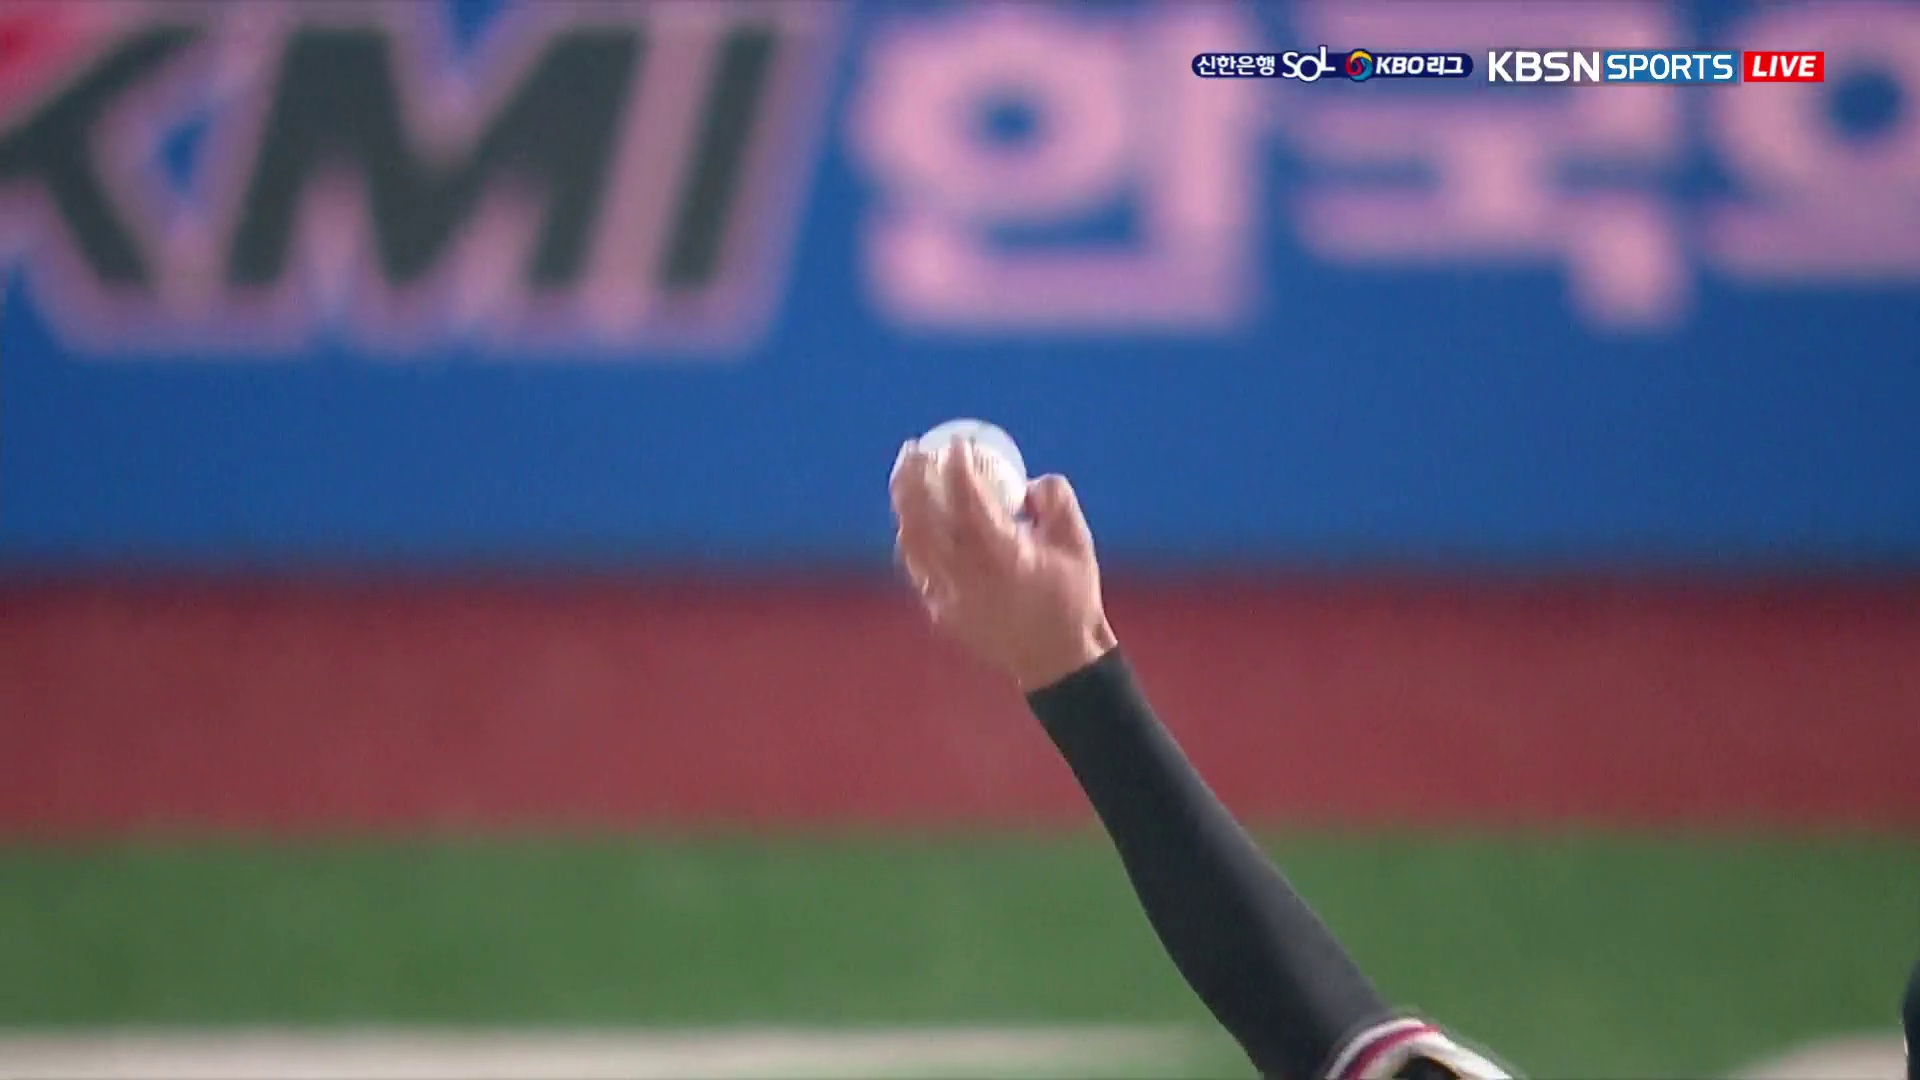zoomin_hand: (869, 407, 1379, 1056)
